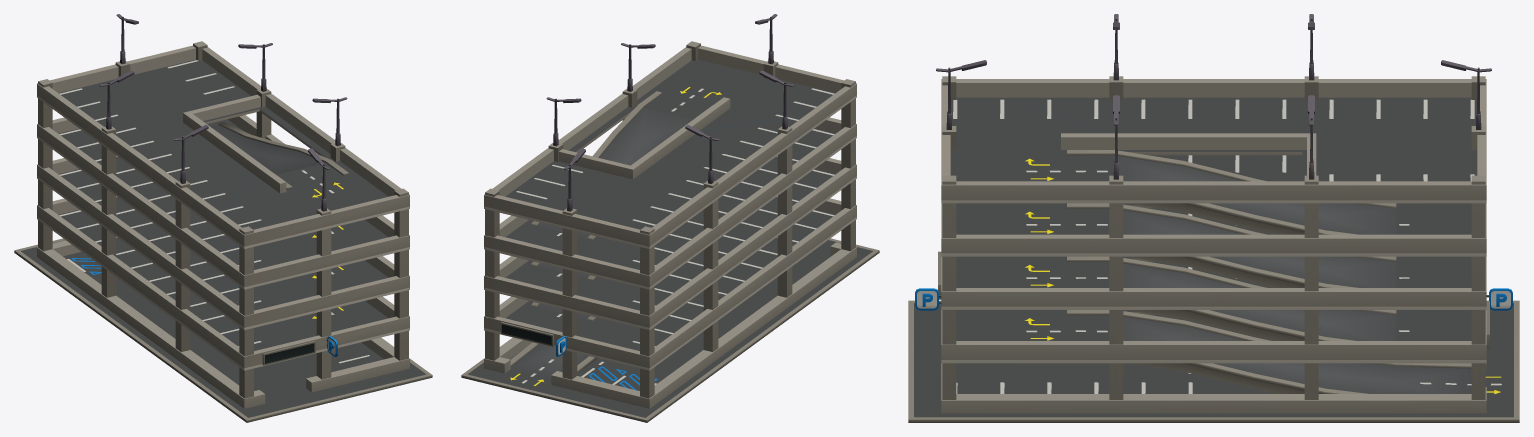
Rendered from Parking_2A.fbx.
3 views of the same model, side by side, from view 1: azimuth 30°, elevation 25°; view 2: azimuth 150°, elevation 25°; view 3: azimuth 270°, elevation 25° (orthographic). The views are drawn at different scales.
Visible parts, largest first — view 1: Parking_2A; view 2: Parking_2A; view 3: Parking_2A, Parking_1B_Logo.
Part boxes in pixels (box(x1,y1,x2,y2)): Parking_2A: box(14, 14, 432, 422); Parking_2A: box(461, 14, 879, 422); Parking_2A: box(908, 14, 1519, 422); Parking_1B_Logo: box(915, 288, 1512, 310).
Bounding box in the file's own units: 24 × 28.35 × 52.
